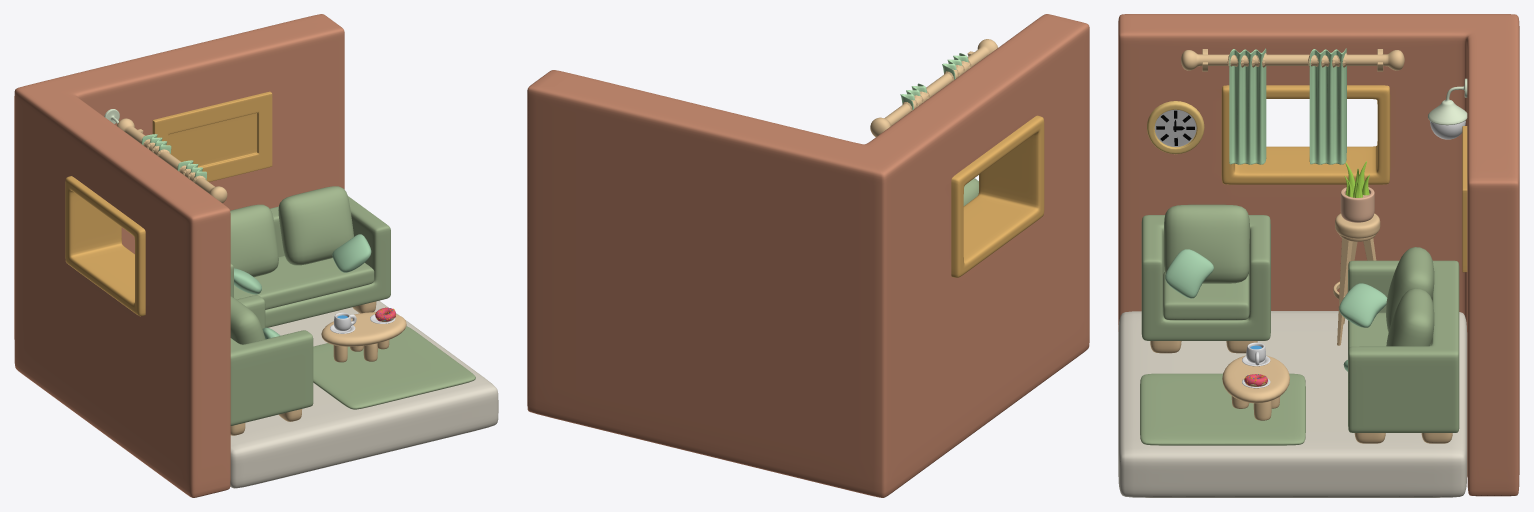
The picture shows the model from 3 angles, left to right: view 1: azimuth 30°, elevation 25°; view 2: azimuth 150°, elevation 25°; view 3: azimuth 270°, elevation 25°; orthographic projection. The views are drawn at different scales.
Visible parts, largest first — view 1: Wall, Floor, Double Sofa, Carpet, Frame, Window, Single Sofa, Cube.004, Cube.003, Coffe Table, Cube.007, Tag (+2 smaller); view 2: Wall, Window, Tag; view 3: Wall, Floor, Double Sofa, Single Sofa, Carpet, Window, Cube.007, Cartain 1, Cartain, Cube.004, Tag, Clock (+12 smaller).
Part boxes in pixels (x1,y1,x2,y2): Wall: [14, 14, 344, 497]; Floor: [230, 300, 498, 488]; Double Sofa: [230, 196, 390, 327]; Carpet: [313, 326, 475, 409]; Frame: [152, 91, 272, 181]; Window: [65, 176, 145, 316]; Single Sofa: [230, 295, 313, 425]; Cube.004: [278, 186, 353, 265]; Cube.003: [230, 204, 278, 277]; Coffe Table: [321, 312, 406, 346]; Cube.007: [230, 296, 265, 344]; Tag: [117, 118, 227, 203]; Wall: [527, 14, 1089, 497]; Window: [951, 115, 1044, 277]; Tag: [870, 39, 997, 136]; Wall: [1118, 14, 1519, 496]; Floor: [1118, 311, 1467, 497]; Double Sofa: [1348, 260, 1459, 432]; Single Sofa: [1141, 215, 1270, 340]; Carpet: [1140, 373, 1305, 445]; Window: [1221, 85, 1390, 184]; Cube.007: [1164, 204, 1249, 283]; Cartain 1: [1309, 48, 1346, 164]; Cartain: [1229, 48, 1266, 164]; Cube.004: [1386, 288, 1434, 346]; Tag: [1181, 50, 1404, 70]; Clock: [1147, 101, 1204, 154].
Size of the model in its own units: 8.86 by 7.64 by 8.68.
